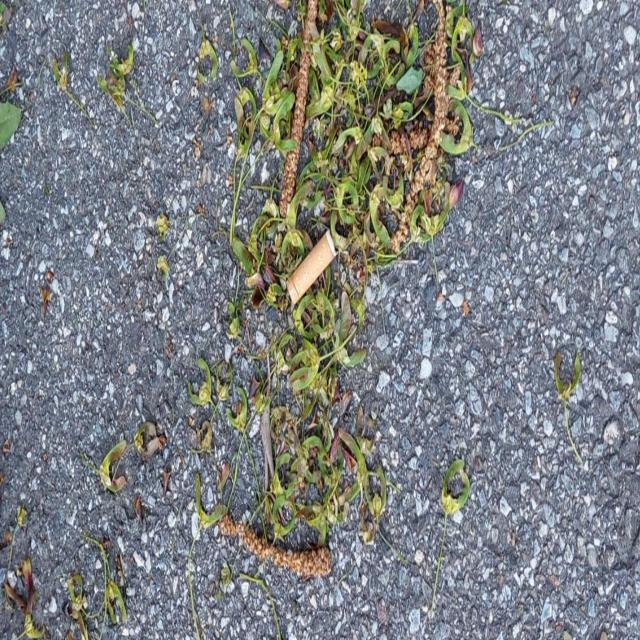other waste: (285, 228, 337, 305)
